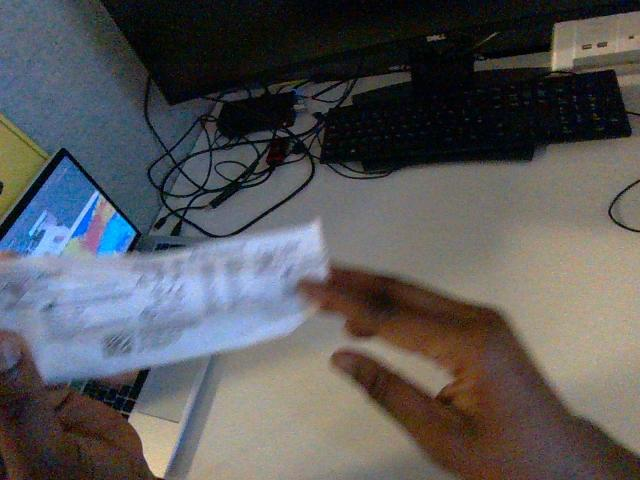syringe: (0, 222, 327, 382)
